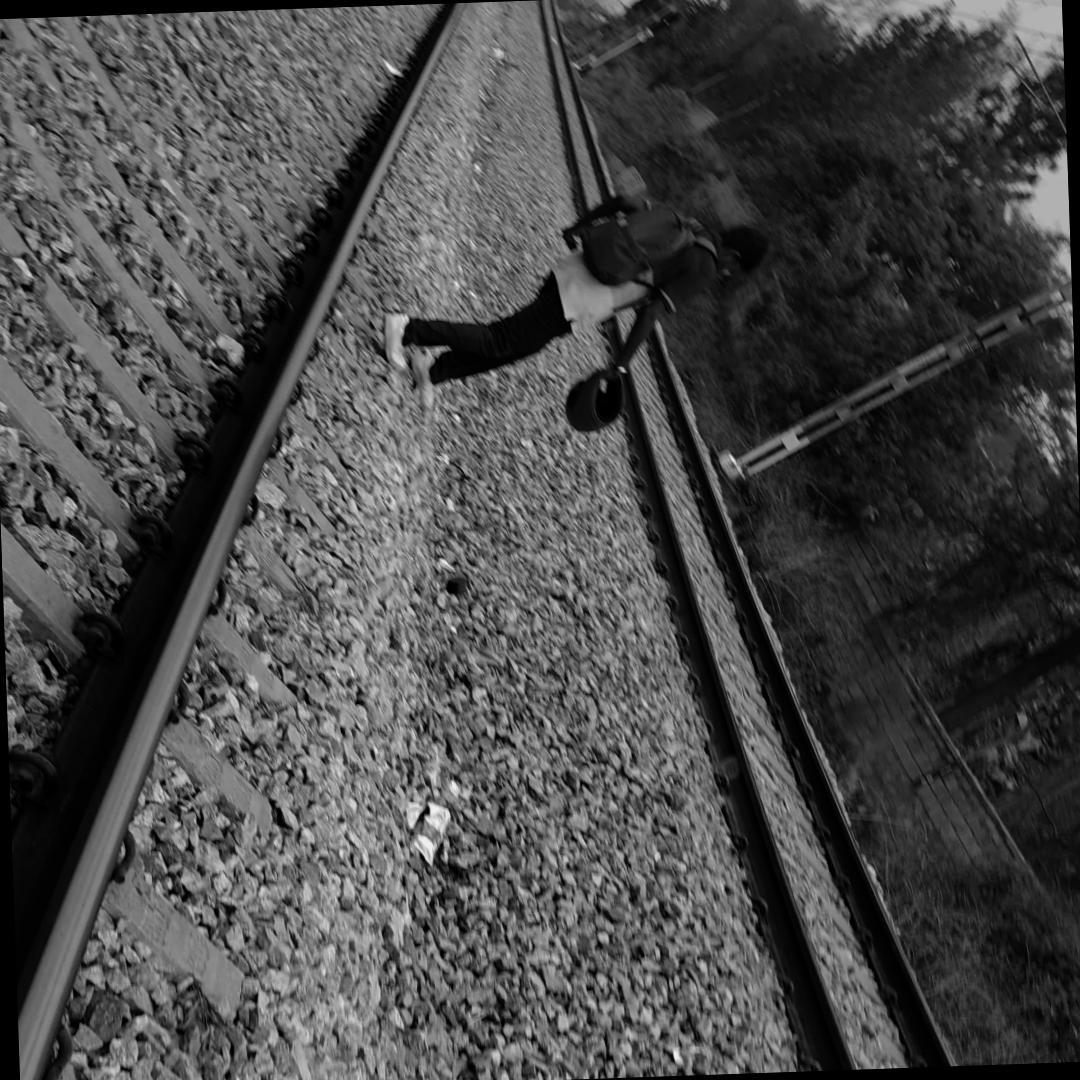standing: (383, 192, 771, 432)
track: (0, 2, 482, 1080)
